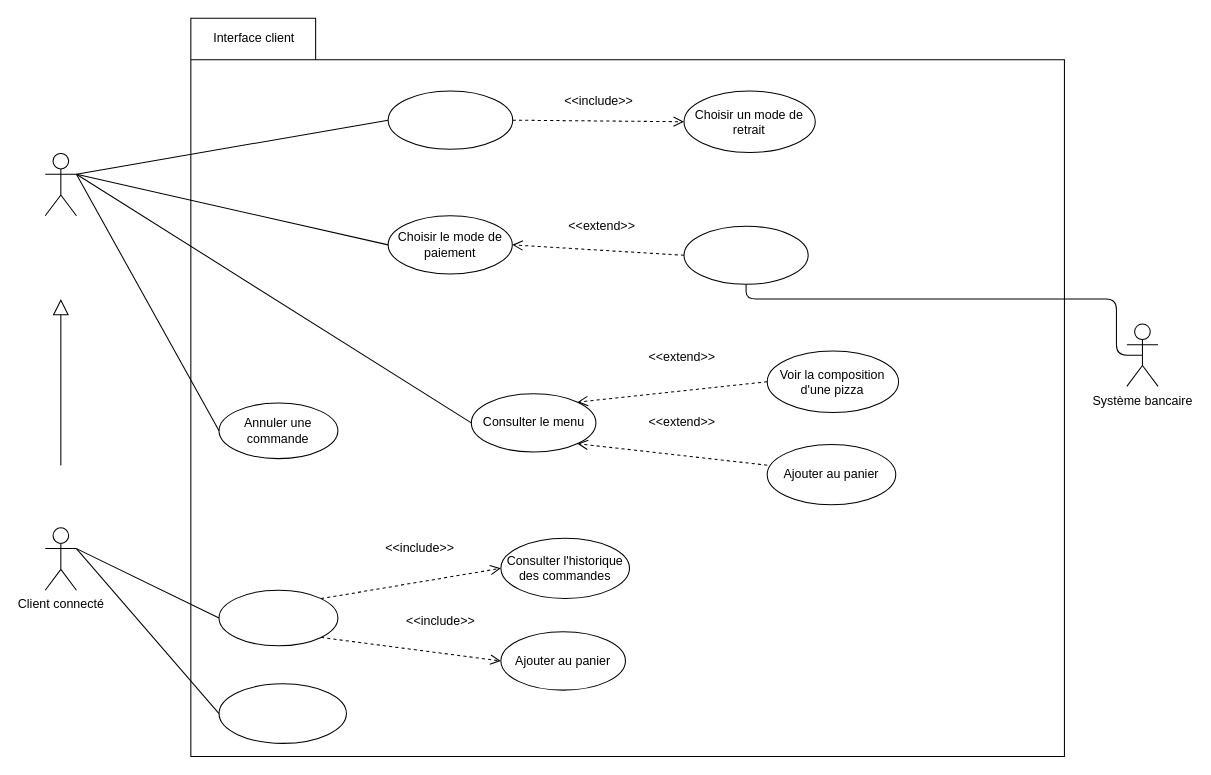
This 1211x775 diagram has some shape labels left out. The box of each missing label's shape, as (x1, y1, x2, y2) in pixels:
Client non connecté: (44, 152, 76, 216)
Laisser un avis: (218, 683, 346, 743)
Payer en ligne: (683, 225, 808, 284)
Repasser une ancienne commande: (218, 589, 338, 646)
Valider le panier: (387, 90, 513, 149)
